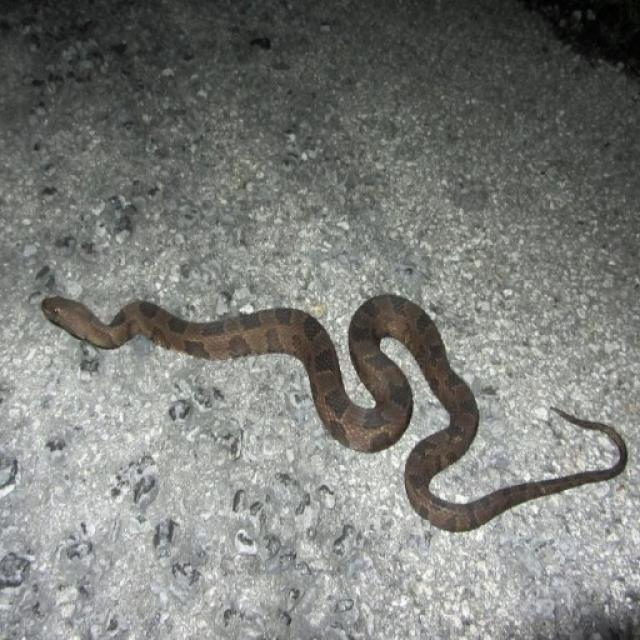snake: (30, 272, 634, 556)
